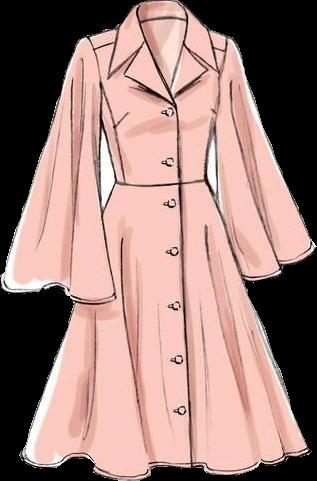Bodice: (86, 1, 227, 186)
Hemline: (18, 450, 314, 480)
Neckline: (135, 4, 188, 92)
Skirt: (19, 180, 310, 480)
Sleeve: (0, 36, 117, 304), (215, 37, 316, 281)
Sleeveline: (83, 34, 105, 127), (214, 37, 231, 130)
Waistline: (106, 27, 220, 107), (115, 177, 208, 188)
